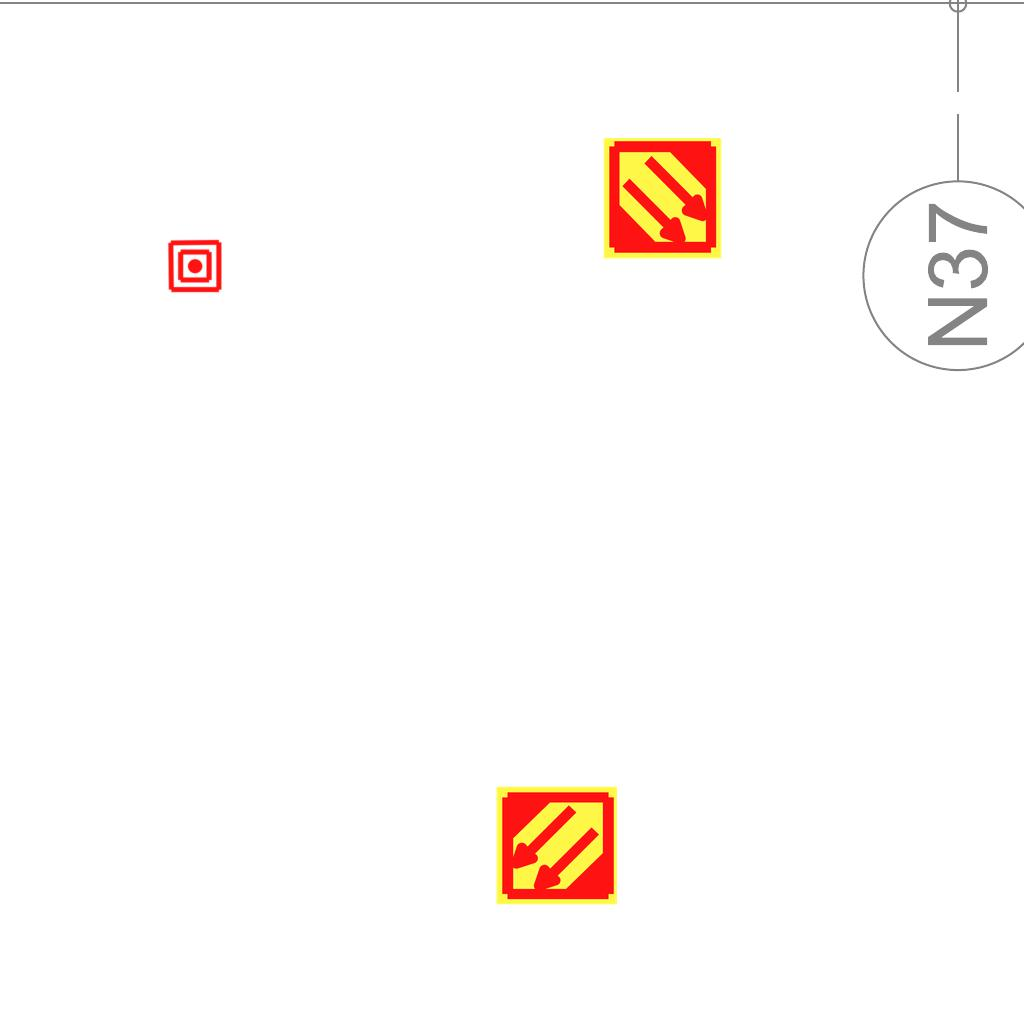ASR_Ansaugrauchmelder: (494, 783, 619, 908), (600, 136, 725, 261)
NAM-Nichtautomatischer_Melder: (167, 238, 223, 294)
